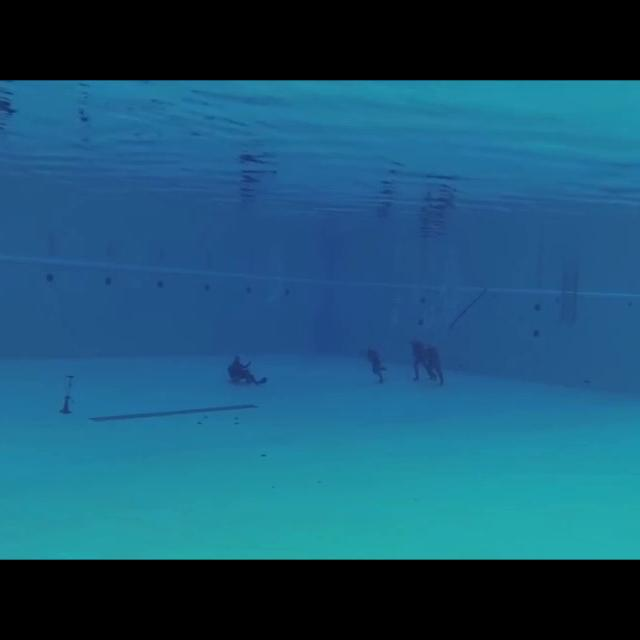human: (222, 348, 268, 389), (357, 340, 393, 389), (407, 335, 438, 384), (421, 344, 452, 386)
